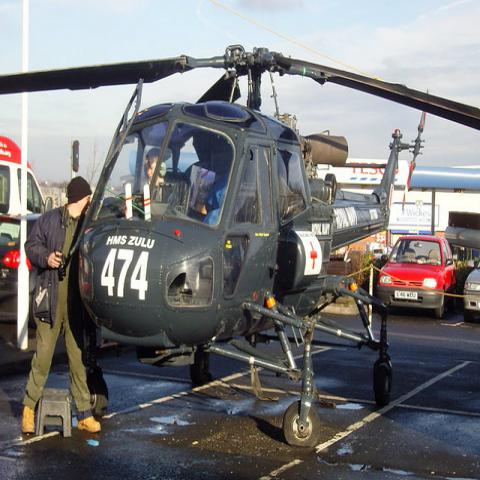car: (375, 234, 459, 319), (462, 258, 479, 323)
truck: (0, 134, 49, 322)
